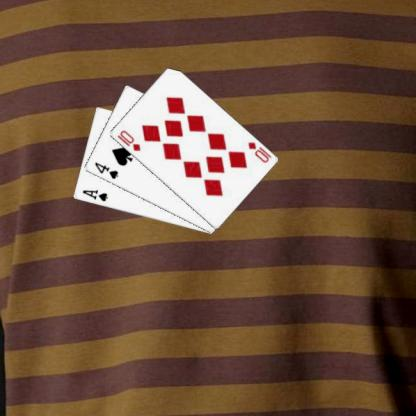10D: (244, 139, 272, 164), (114, 128, 141, 152)
4S: (92, 160, 119, 180)
AS: (79, 187, 109, 203)
